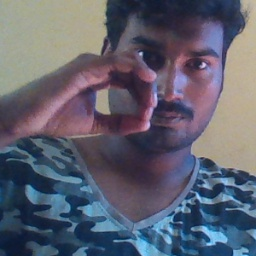O: (23, 45, 159, 143)
